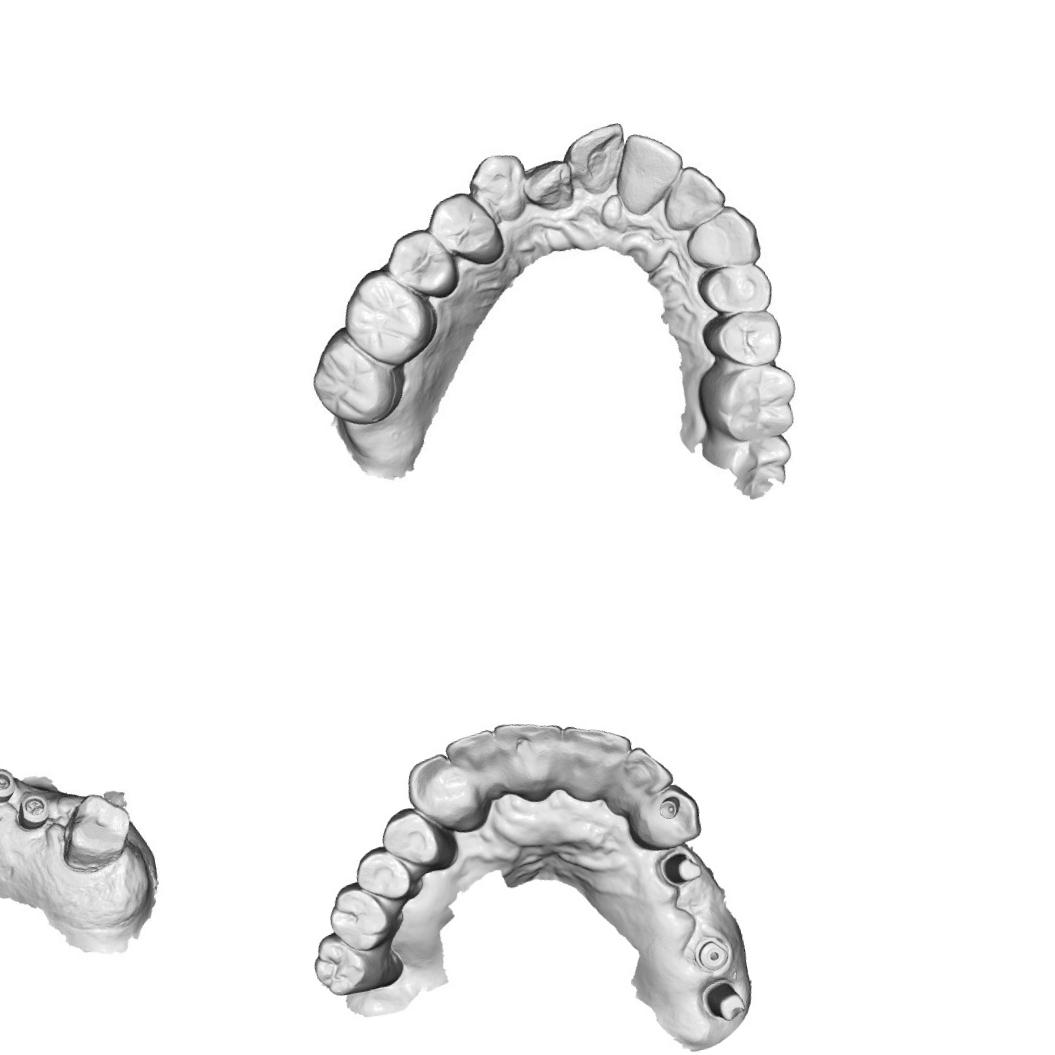abutment: (650, 843, 707, 892), (698, 974, 750, 1024)
canine: (400, 746, 488, 842), (678, 200, 764, 275), (625, 778, 707, 854), (462, 146, 534, 232)
crown: (50, 787, 143, 880)
implant: (690, 932, 733, 974), (15, 791, 52, 831), (0, 765, 19, 801)
incisor: (608, 122, 692, 216), (555, 714, 640, 806), (490, 712, 572, 804), (651, 156, 731, 235), (596, 740, 678, 816), (559, 119, 633, 201), (442, 725, 507, 806), (517, 153, 577, 218)
molar: (330, 258, 447, 372), (300, 320, 404, 435), (691, 355, 804, 453), (305, 919, 406, 1000), (322, 876, 407, 958)
premolar: (420, 182, 507, 274), (698, 302, 792, 376), (381, 223, 461, 306), (376, 800, 454, 876), (692, 259, 778, 322), (348, 836, 424, 907)
